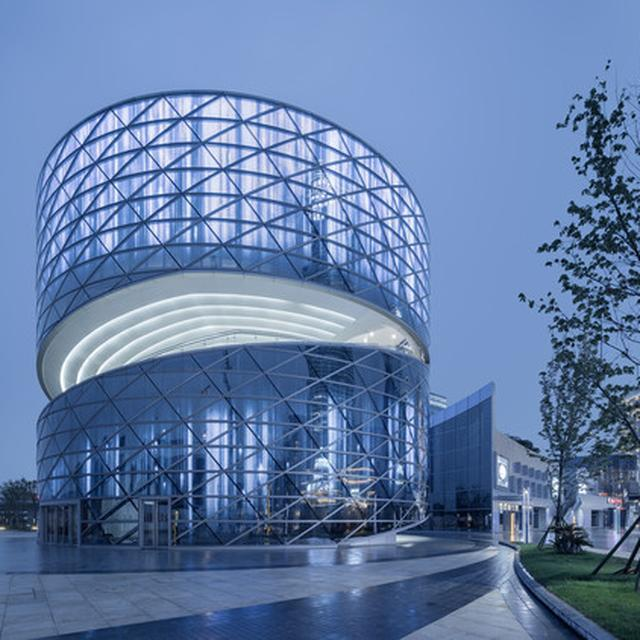building: (34, 80, 431, 563), (421, 376, 640, 540)
